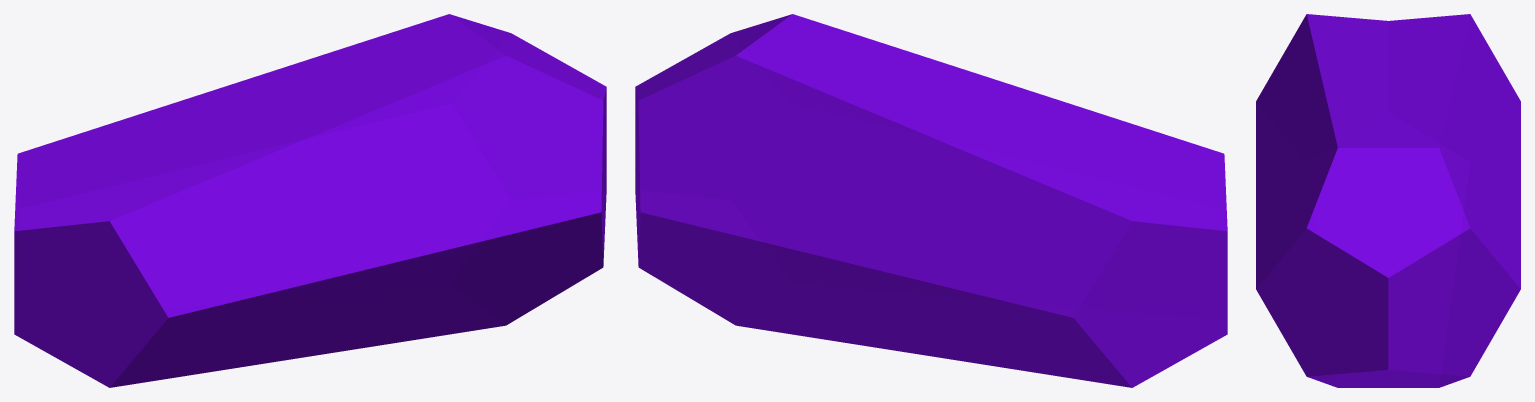
The model's file is blueCrystal.fbx.
The picture shows the model from 3 angles, left to right: view 1: azimuth 30°, elevation 25°; view 2: azimuth 150°, elevation 25°; view 3: azimuth 270°, elevation 25°; orthographic projection. The views are drawn at different scales.
Parts seen in each view (by area): view 1: pPlatonic1; view 2: pPlatonic1; view 3: pPlatonic1.
Part boxes in pixels (box(x1,y1,x2,y2)): pPlatonic1: box(14, 14, 606, 387); pPlatonic1: box(635, 14, 1227, 387); pPlatonic1: box(1256, 14, 1520, 387).
Bounding box in the file's own units: 4.29 × 1.87 × 1.87.
